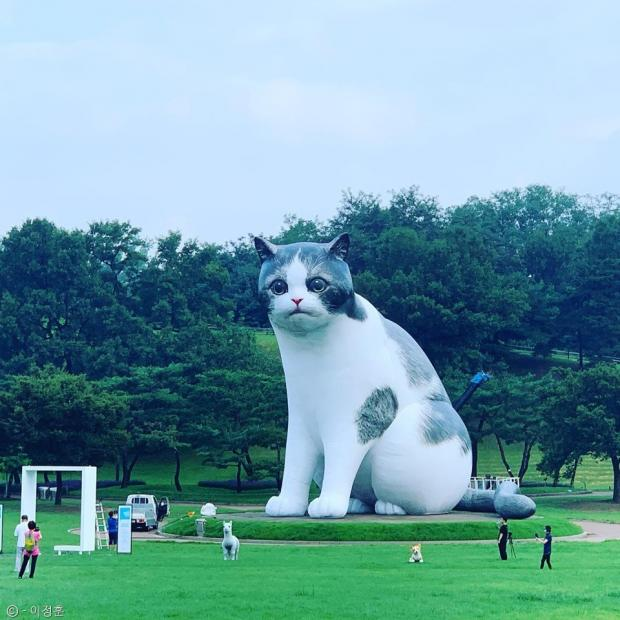cat: (239, 224, 544, 527)
cat-face: (245, 226, 365, 345)
